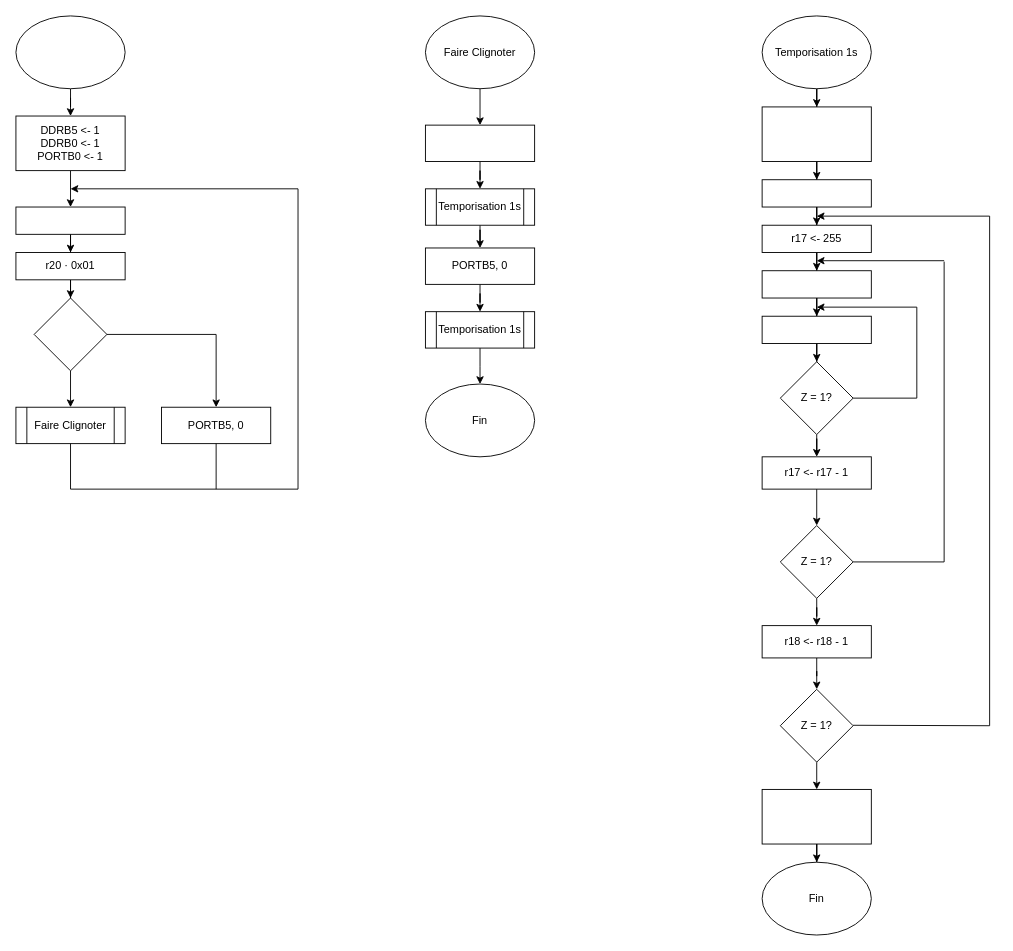
Some shapes in this 1013 by 951 pixel diagram are drawn without their labels. The shapes that lost their labels are listed below. From the top down, each one's centre as x and y in pixels, then its label:
(70,52): Début
(480,143): PORTB5, 1
(816,134): push r16 push r17 push r18
(816,193): r18 <- 82
(70,220): r20 <- PINB
(816,284): r16 <- 255
(70,334): r20 = 1?
(816,329): r16 <- r16 - 1
(816,816): pop r18 pop r17 pop r16
